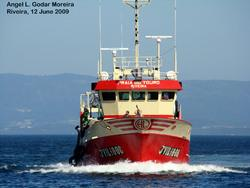otherboat: (63, 1, 195, 172)
